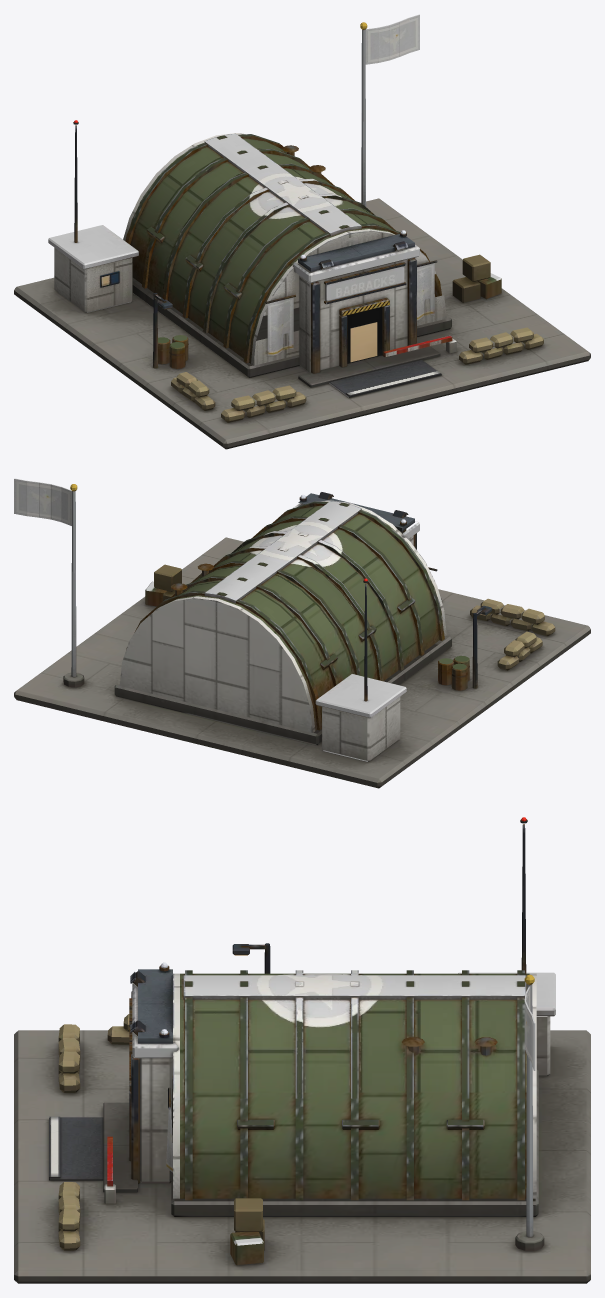
Rendered from tent.allies.glb.
3 renders of one model, top to bottom at view 1: azimuth 30°, elevation 25°; view 2: azimuth 150°, elevation 25°; view 3: azimuth 270°, elevation 25°, orthographic. The views are drawn at different scales.
Parts seen in each view (by area): view 1: root_mesh, flag_mesh; view 2: root_mesh, flag_mesh; view 3: root_mesh, flag_mesh.
Part boxes in pixels (<box>): root_mesh: <box>14,22,590,449</box>; flag_mesh: <box>365,14,419,64</box>; root_mesh: <box>14,484,590,788</box>; flag_mesh: <box>14,478,71,525</box>; root_mesh: <box>14,817,590,1283</box>; flag_mesh: <box>524,986,535,1070</box>.
Size of the model in its own units: 2.08 by 1.08 by 1.98.
Materials: 1 (1 with a texture image).
